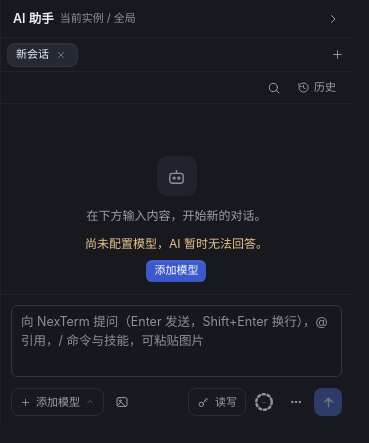
AI composer toolbar › keeps the experimental takeover entry inside the more menu
The image size is (369, 443).
Click the button named "更多".
click(296, 402)  # box [282,388,310,416]
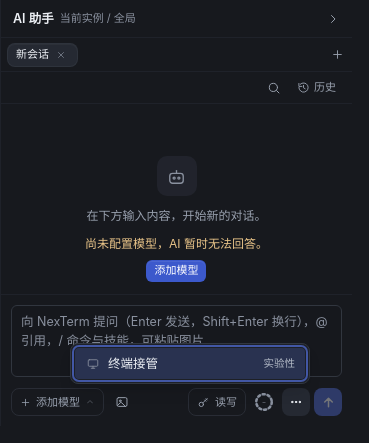
Now the menu item "终端接管 实验性" is shown, box [75,348,305,379]
